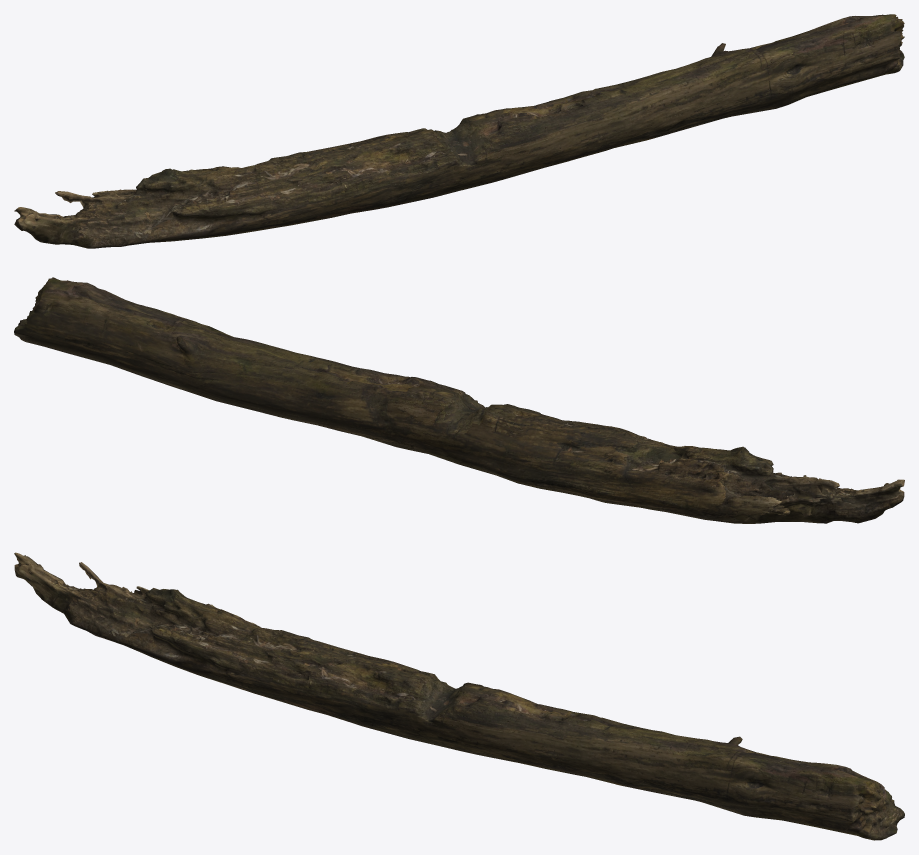
Rendered from dead_tree_trunk.glb.
3 renders of one model, top to bottom at view 1: azimuth 30°, elevation 25°; view 2: azimuth 150°, elevation 25°; view 3: azimuth 330°, elevation 25°, orthographic.
Visible parts, largest first — view 1: dead_tree_trunk; view 2: dead_tree_trunk; view 3: dead_tree_trunk.
Part boxes in pixels (bbox=[...]): dead_tree_trunk: bbox=[14, 14, 904, 248]; dead_tree_trunk: bbox=[14, 277, 904, 523]; dead_tree_trunk: bbox=[14, 552, 904, 840].
Bounding box in the file's own units: 3.05 × 0.2898 × 0.2775.
Materials: 1 (1 with a texture image).
